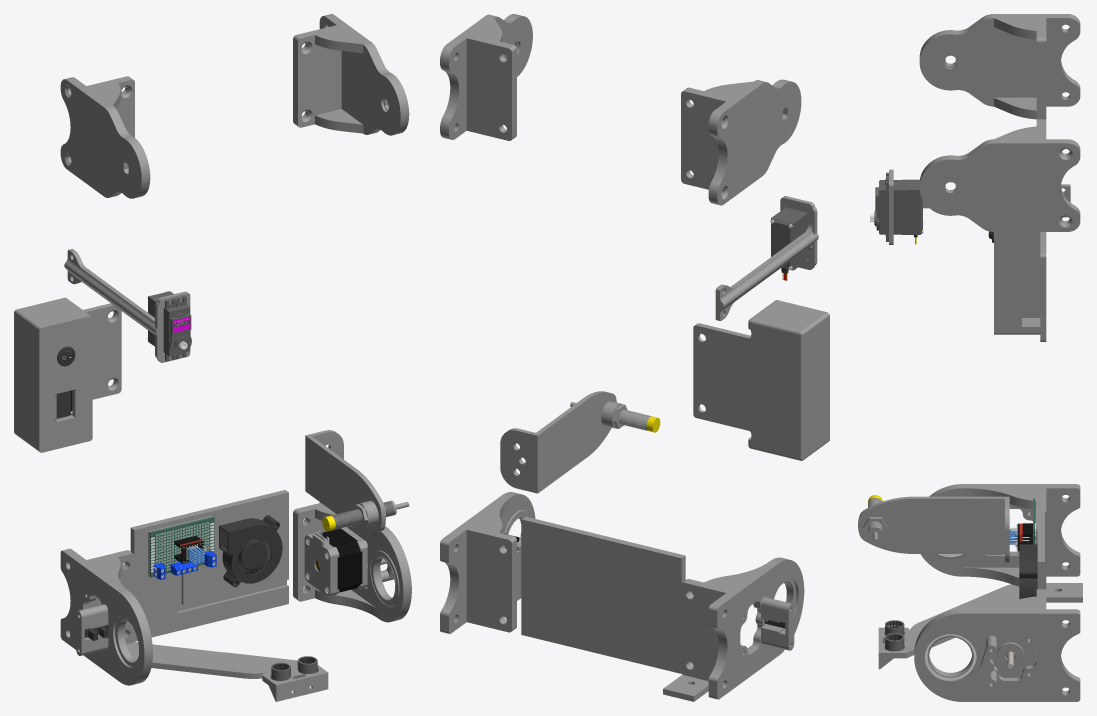
Rendered from Soportes_fusion.glb.
3 views of the same model, side by side, from view 1: azimuth 30°, elevation 25°; view 2: azimuth 150°, elevation 25°; view 3: azimuth 270°, elevation 25° (orthographic). The views are drawn at different scales.
Visible parts, largest first — view 1: base driver y soplador:1, pieza 2 cinta:1, pieza 2 cinta:2, pieza1 cinta:1, base esp:1, tapa esp:1, pieza1 cinta:2, Open CASCADE STEP translator 7.9 1.5:1, soporte sensor:1, Nema17:1, Soporte Servo:1, top:1 (+8 smaller); view 2: base driver y soplador:1, base esp:1, pieza 2 cinta:2, pieza1 cinta:1, pieza 2 cinta:1, pieza1 cinta:2, Open CASCADE STEP translator 7.9 1.5:1, Soporte Servo:1, servo mg996R:1, Soporte encoder led:1, soporte sensor:1, SOLID (3):1; view 3: pieza 2 cinta:1, pieza 2 cinta:2, pieza1 cinta:2, Open CASCADE STEP translator 7.9 1.5:1, pieza1 cinta:1, base esp:1, soporte sensor:1, servo mg996R:1, Nema17:1, base driver y soplador:1, rodamiento 6807-2RS (35х47х7):2, pieza_engranaje_1:1 (+5 smaller).
Part boxes in pixels (x1=…): base driver y soplador:1: x1=130, y1=490, x2=288, y2=641; pieza 2 cinta:1: x1=293, y1=14, x2=409, y2=135; pieza 2 cinta:2: x1=60, y1=76, x2=150, y2=198; pieza1 cinta:1: x1=60, y1=548, x2=152, y2=685; base esp:1: x1=14, y1=297, x2=121, y2=450; tapa esp:1: x1=37, y1=315, x2=92, y2=452; pieza1 cinta:2: x1=293, y1=502, x2=411, y2=622; Open CASCADE STEP translator 7.9 1.5:1: x1=305, y1=430, x2=385, y2=532; soporte sensor:1: x1=126, y1=641, x2=328, y2=701; Nema17:1: x1=304, y1=527, x2=367, y2=596; Soporte Servo:1: x1=64, y1=249, x2=190, y2=362; top:1: x1=223, y1=518, x2=282, y2=587; base driver y soplador:1: x1=521, y1=516, x2=685, y2=673; base esp:1: x1=693, y1=301, x2=827, y2=460; pieza 2 cinta:2: x1=681, y1=79, x2=801, y2=205; pieza1 cinta:1: x1=681, y1=557, x2=804, y2=699; pieza 2 cinta:1: x1=440, y1=14, x2=532, y2=140; pieza1 cinta:2: x1=440, y1=492, x2=535, y2=633; Open CASCADE STEP translator 7.9 1.5:1: x1=500, y1=391, x2=621, y2=493; Soporte Servo:1: x1=715, y1=196, x2=818, y2=321; servo mg996R:1: x1=770, y1=207, x2=808, y2=280; Soporte encoder led:1: x1=761, y1=597, x2=794, y2=650; soporte sensor:1: x1=663, y1=662, x2=708, y2=701; SOLID (3):1: x1=618, y1=409, x2=660, y2=432; pieza 2 cinta:1: x1=919, y1=119, x2=1080, y2=231; pieza 2 cinta:2: x1=919, y1=14, x2=1080, y2=119; pieza1 cinta:2: x1=914, y1=589, x2=1080, y2=701; Open CASCADE STEP translator 7.9 1.5:1: x1=858, y1=496, x2=1009, y2=563; pieza1 cinta:1: x1=920, y1=484, x2=1080, y2=589; base esp:1: x1=997, y1=232, x2=1046, y2=341; soporte sensor:1: x1=878, y1=583, x2=1082, y2=669; servo mg996R:1: x1=870, y1=172, x2=923, y2=244; Nema17:1: x1=993, y1=634, x2=1036, y2=677; base driver y soplador:1: x1=1036, y1=487, x2=1044, y2=589; rodamiento 6807-2RS (35х47х7):2: x1=924, y1=634, x2=976, y2=680; pieza_engranaje_1:1: x1=980, y1=635, x2=997, y2=689.
Bounding box in the file's own units: 0.3317 × 0.5199 × 0.1843.
